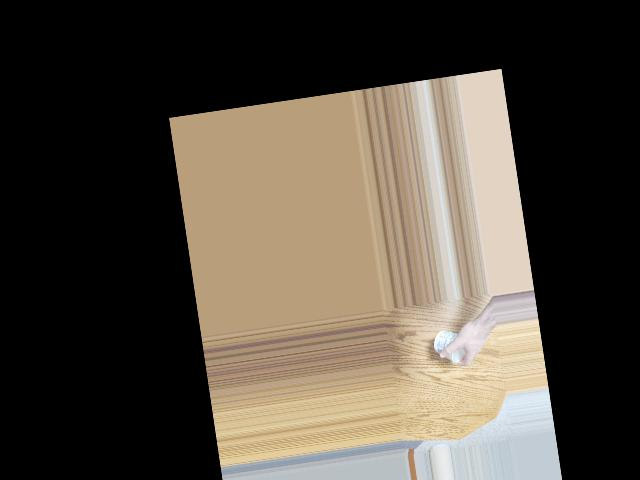cotage: (434, 326, 469, 365)
